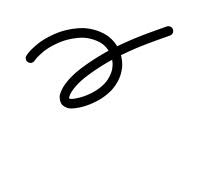a: (57, 24, 126, 110)
